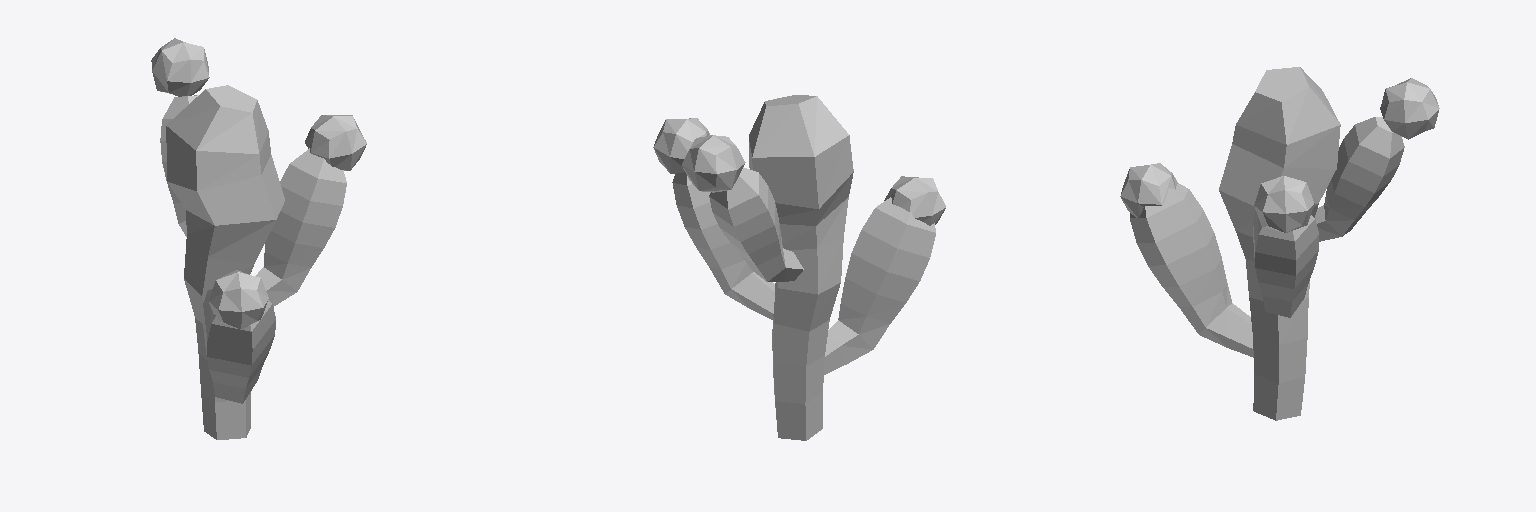
The model's file is cactus1.obj.
3 renders of one model, left to right at view 1: azimuth 30°, elevation 25°; view 2: azimuth 150°, elevation 25°; view 3: azimuth 270°, elevation 25°, orthographic.
Visible parts, largest first — view 1: main_cactus.001; view 2: main_cactus.001; view 3: main_cactus.001.
Boxes of the visible parts, x1,y1,x2,y2 form: main_cactus.001: [151, 38, 366, 439]; main_cactus.001: [653, 95, 945, 440]; main_cactus.001: [1120, 67, 1439, 420].
Bounding box in the file's own units: 4.11 × 6.17 × 5.26.